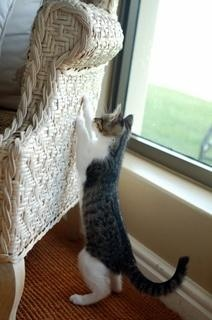cat: (72, 98, 192, 307)
chair: (1, 2, 129, 320)
